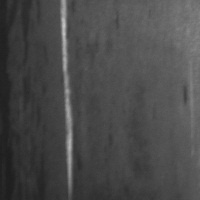inclusion: (0, 1, 35, 200)
scratches: (56, 1, 77, 199)
